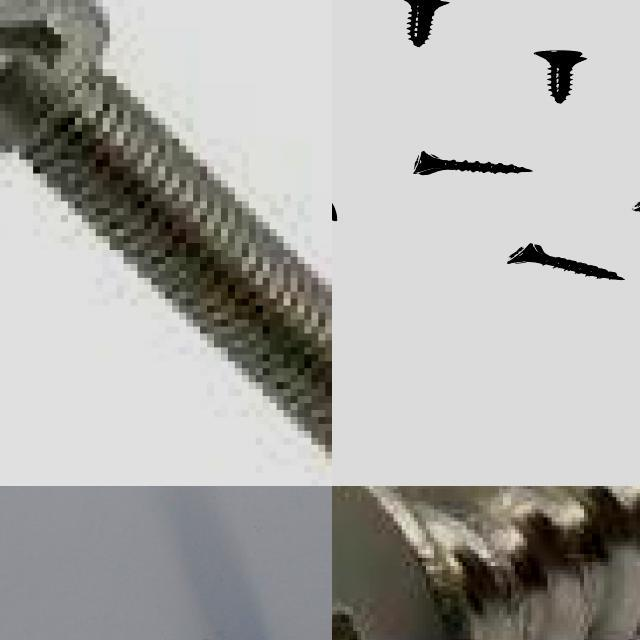Screw: (0, 0, 332, 467), (332, 486, 640, 640), (506, 244, 623, 280), (412, 151, 532, 175), (533, 50, 586, 103), (403, 0, 448, 46)
